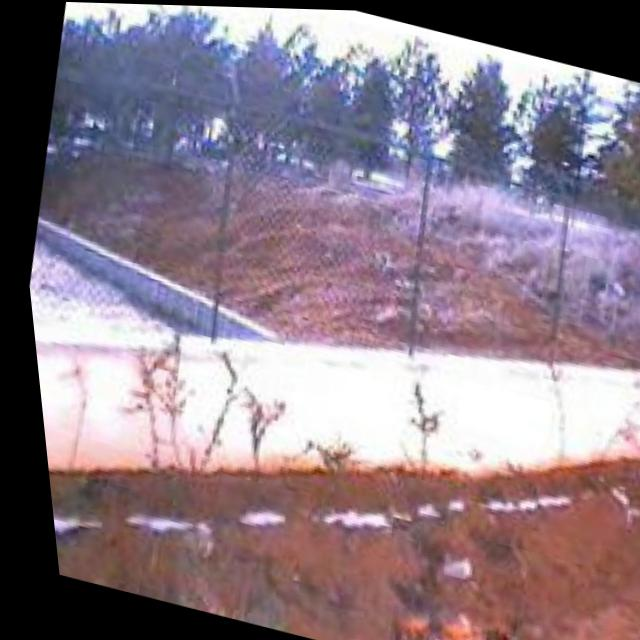Fire: (373, 593, 551, 640)
